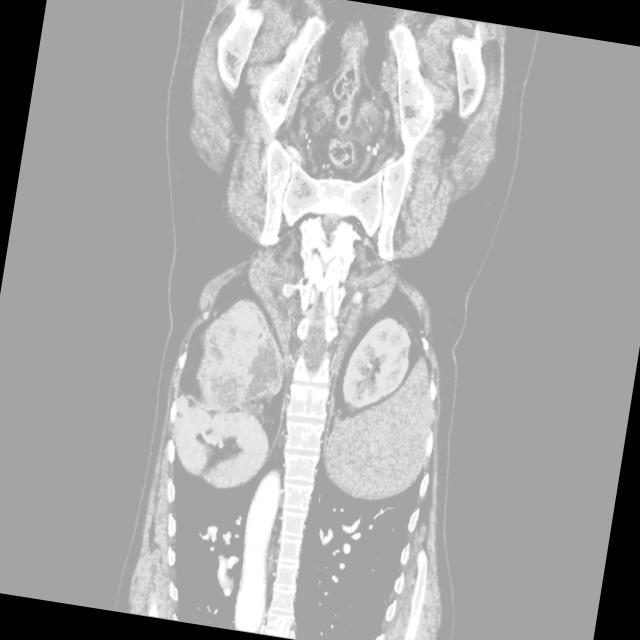TUMOR: (82, 220, 542, 511)
